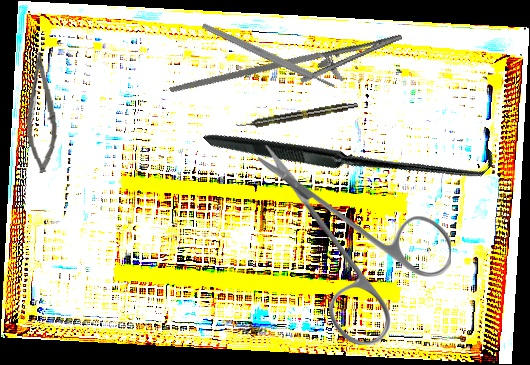Handpiece: (235, 99, 359, 132)
Hook Surgical: (203, 0, 499, 297)
Iris Scissors: (258, 145, 451, 345)
Micro Scissor: (19, 51, 61, 174)
Needle Holder: (168, 6, 410, 138)
Scalpel Handle: (201, 21, 336, 91)
